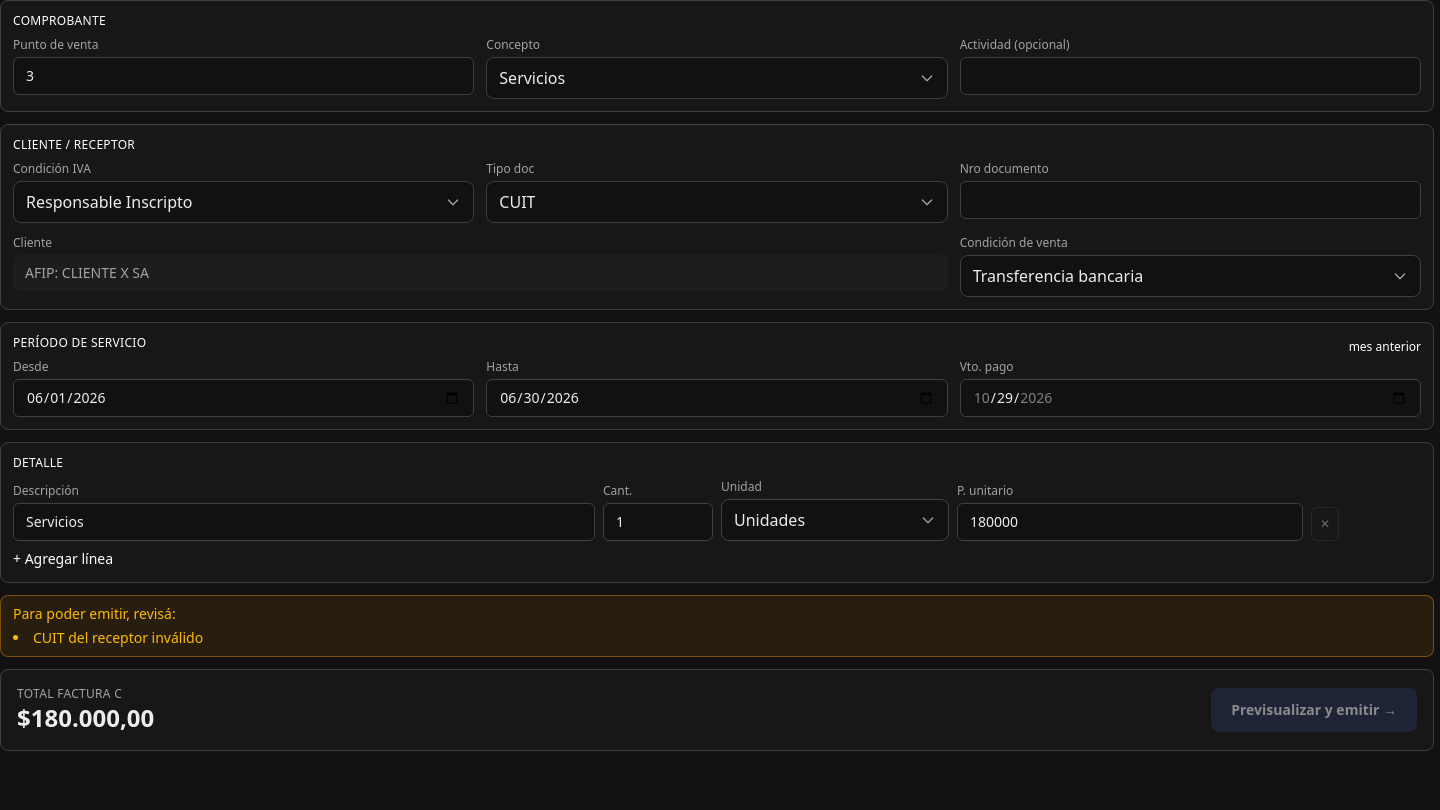
Scenario: EmissionForm › Consumidor Final setea tipoDoc DNI, limpia nroDoc y desbloquea el CTA
Expected: the button "Previsualizar y emitir →" is disabled, [1211,688,1417,732]
Expected: the text "CUIT" is shown, [499,190,535,214]
Note: Abrir el dropdown de Condición IVA y elegir Consumidor Final.
Click the button "Responsable Inscripto" at (109, 202), box [13,181,474,223]
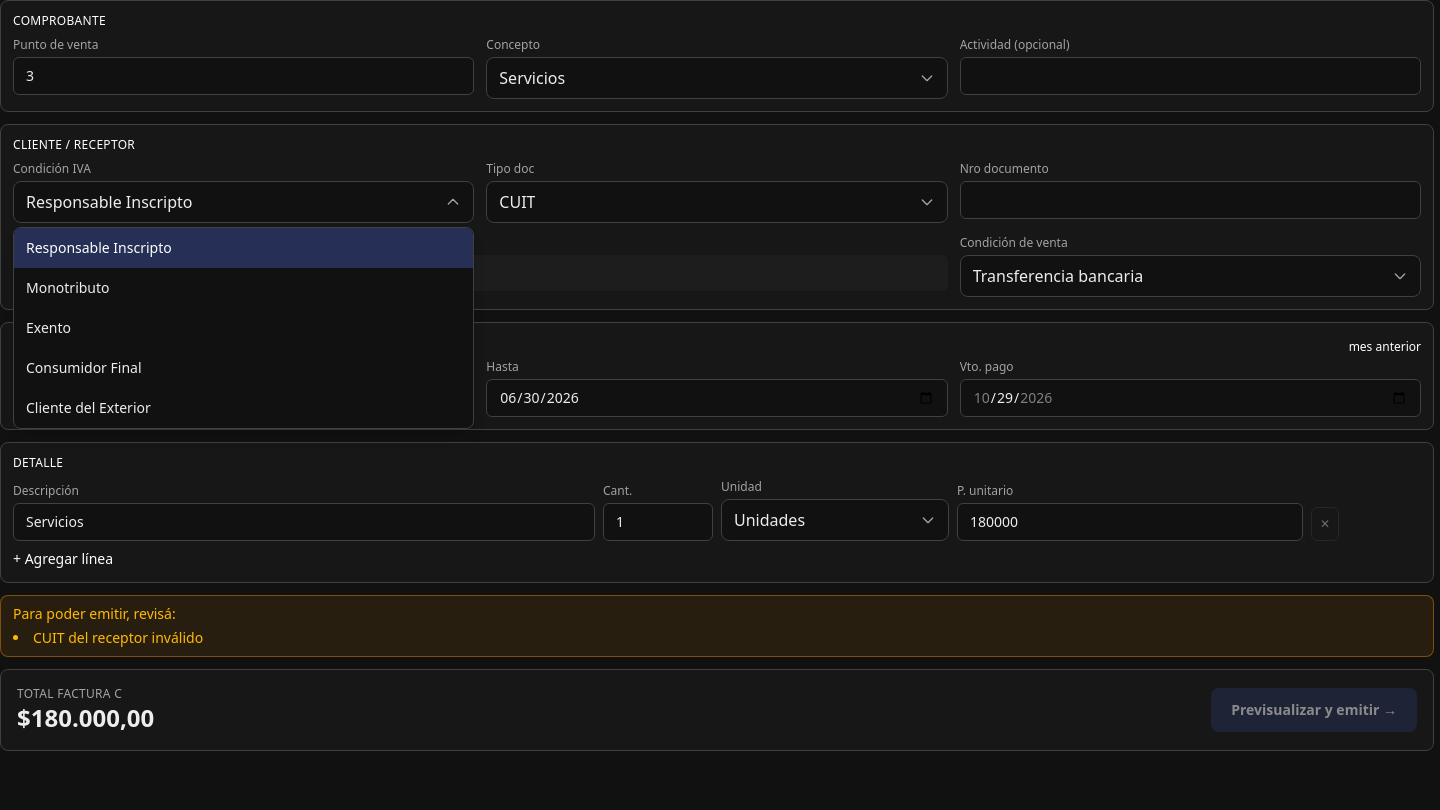
Click the button "Consumidor Final" at (84, 368), box [14,348,473,388]
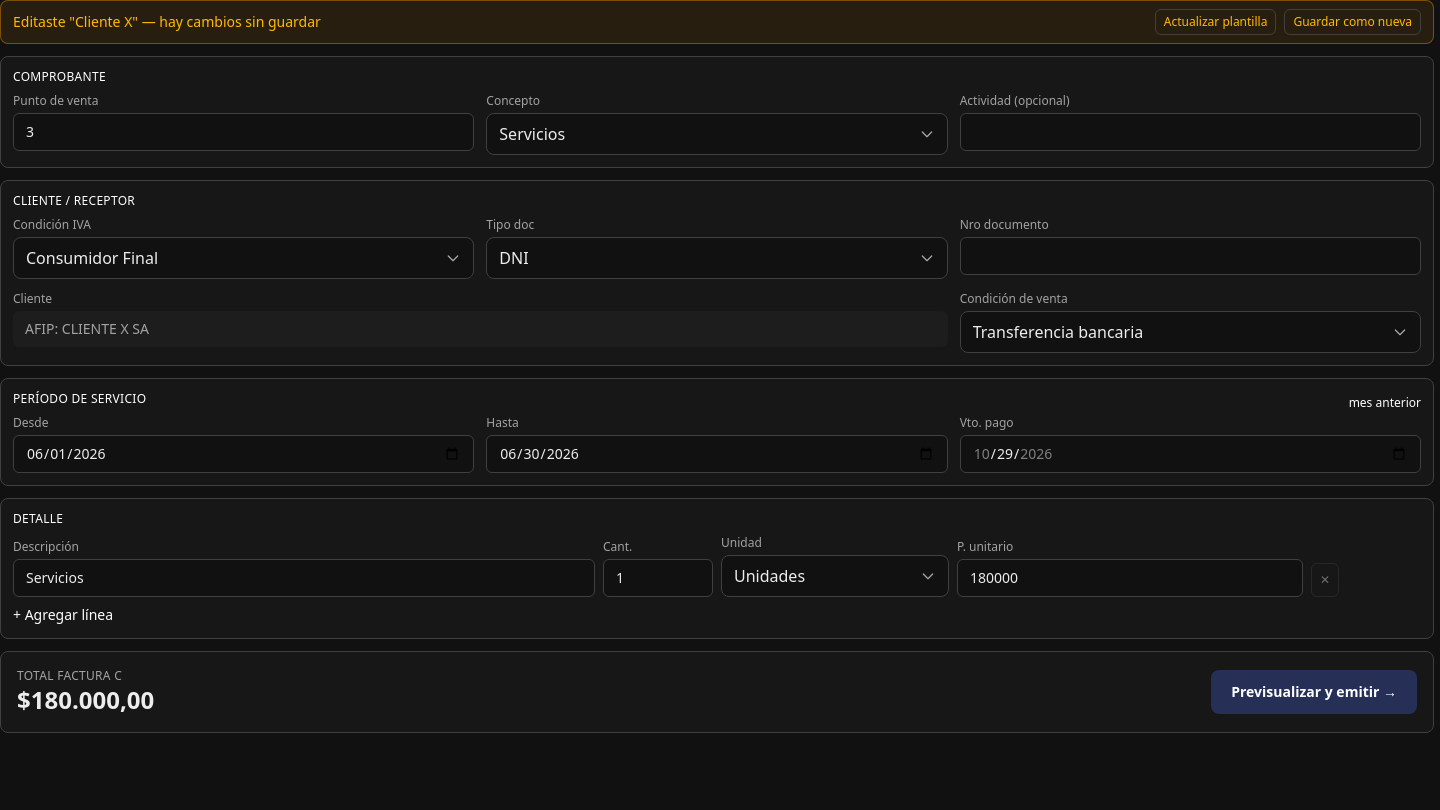
Expected: the field with test id "nro-doc" is empty, [960,237,1421,275]
Expected: the text "DNI" is shown, [499,246,529,270]
Expected: the button "Previsualizar y emitir →" is enabled, [1211,670,1417,714]
